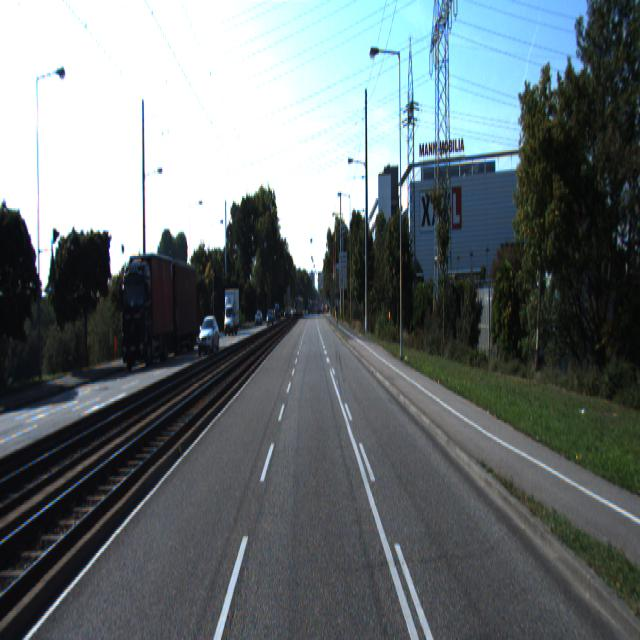Car: (119, 248, 174, 372), (157, 257, 198, 357), (197, 316, 221, 356)
